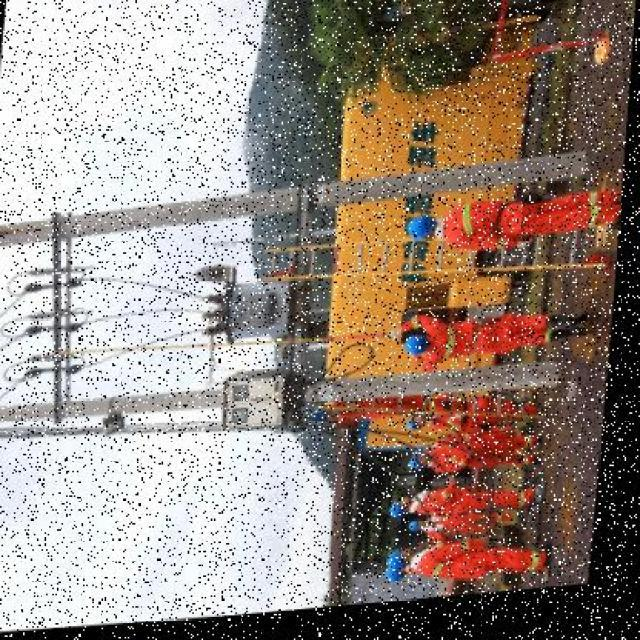helmet: (408, 214, 444, 254), (408, 336, 440, 369), (394, 556, 418, 579), (411, 457, 434, 480), (393, 505, 417, 527)
vest: (440, 199, 539, 265), (431, 317, 510, 383), (418, 543, 512, 594), (436, 437, 509, 481)
